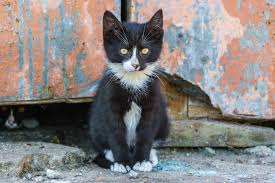cat: (83, 10, 172, 163)
